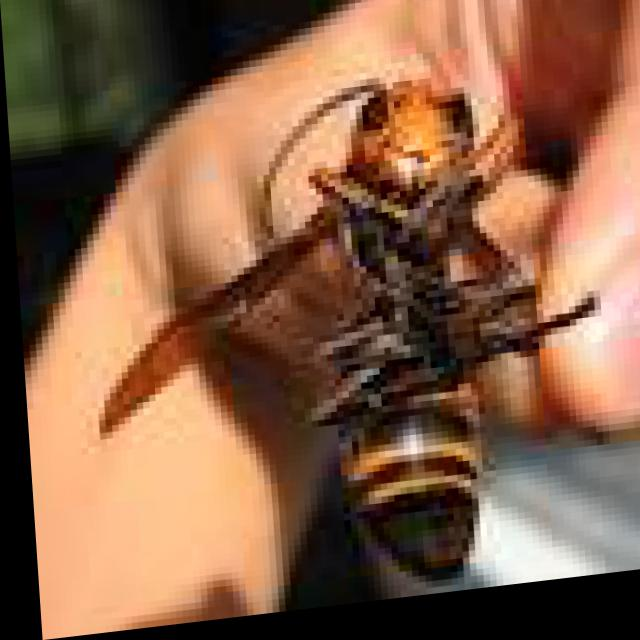Vespa Velutina: (59, 44, 616, 626)
